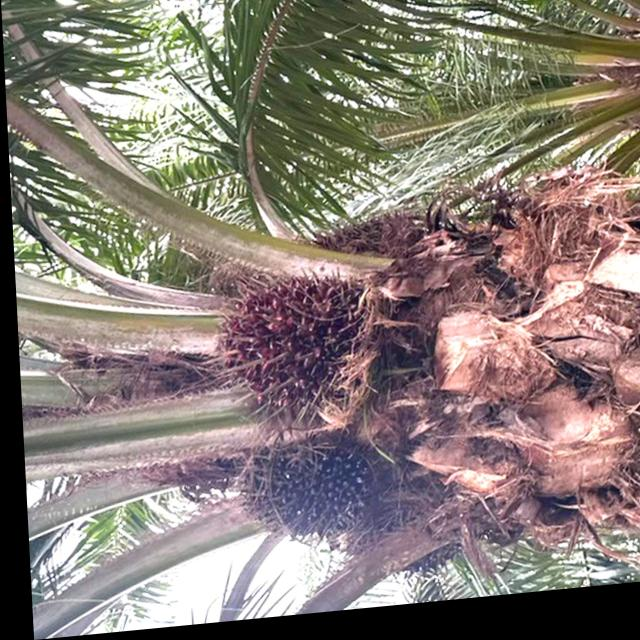ripe: (183, 260, 372, 428)
